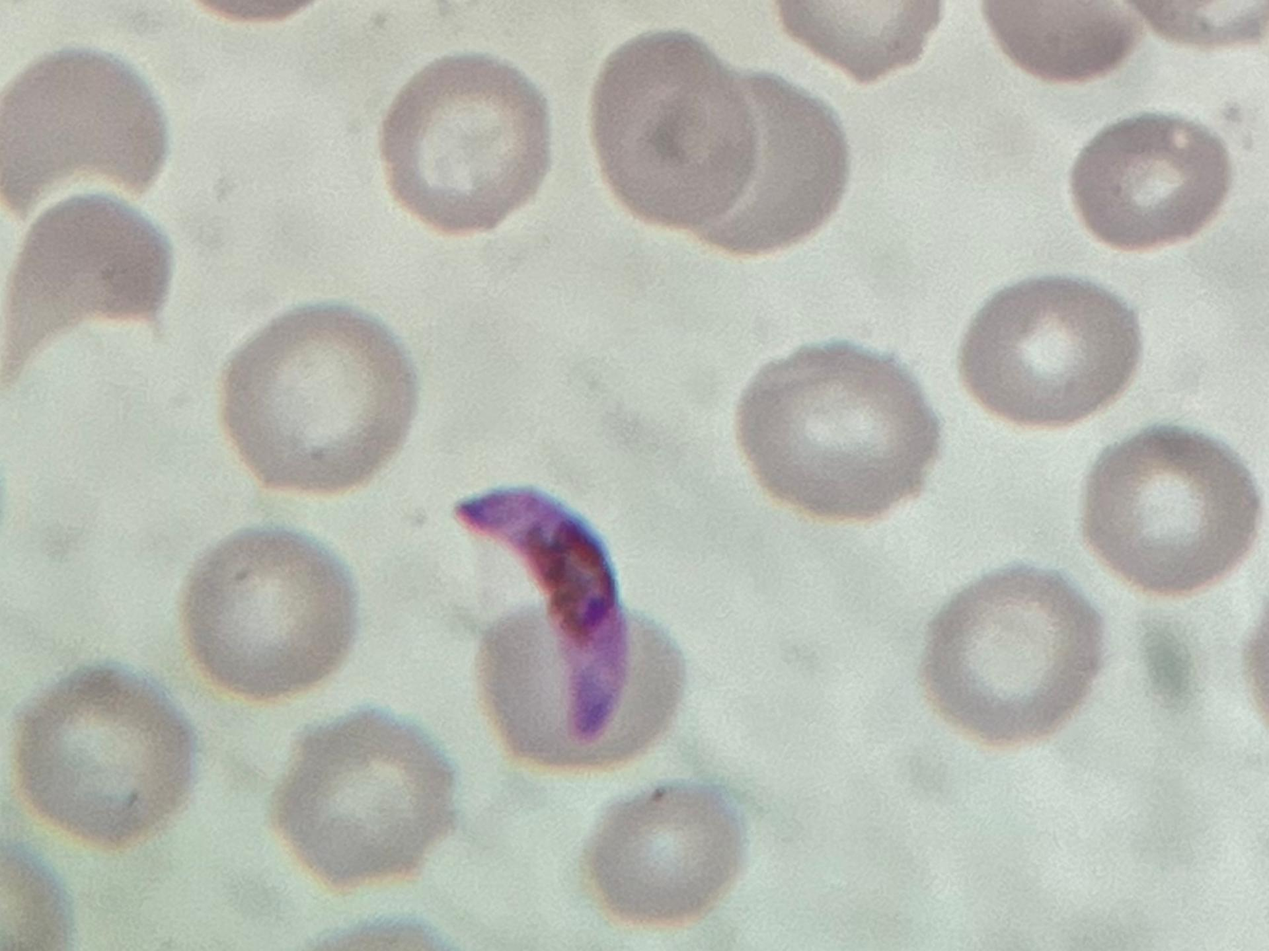Infected: (449, 483, 628, 742)
Uninfected: (218, 299, 419, 493), (734, 342, 937, 520), (476, 598, 687, 768), (592, 27, 757, 229), (925, 562, 1106, 744), (271, 712, 453, 892), (0, 195, 174, 382), (178, 527, 361, 702), (20, 665, 193, 847), (1084, 425, 1261, 598), (686, 71, 850, 257), (382, 53, 549, 234), (0, 45, 169, 213), (960, 273, 1142, 428), (587, 777, 746, 927), (1071, 113, 1227, 249)
